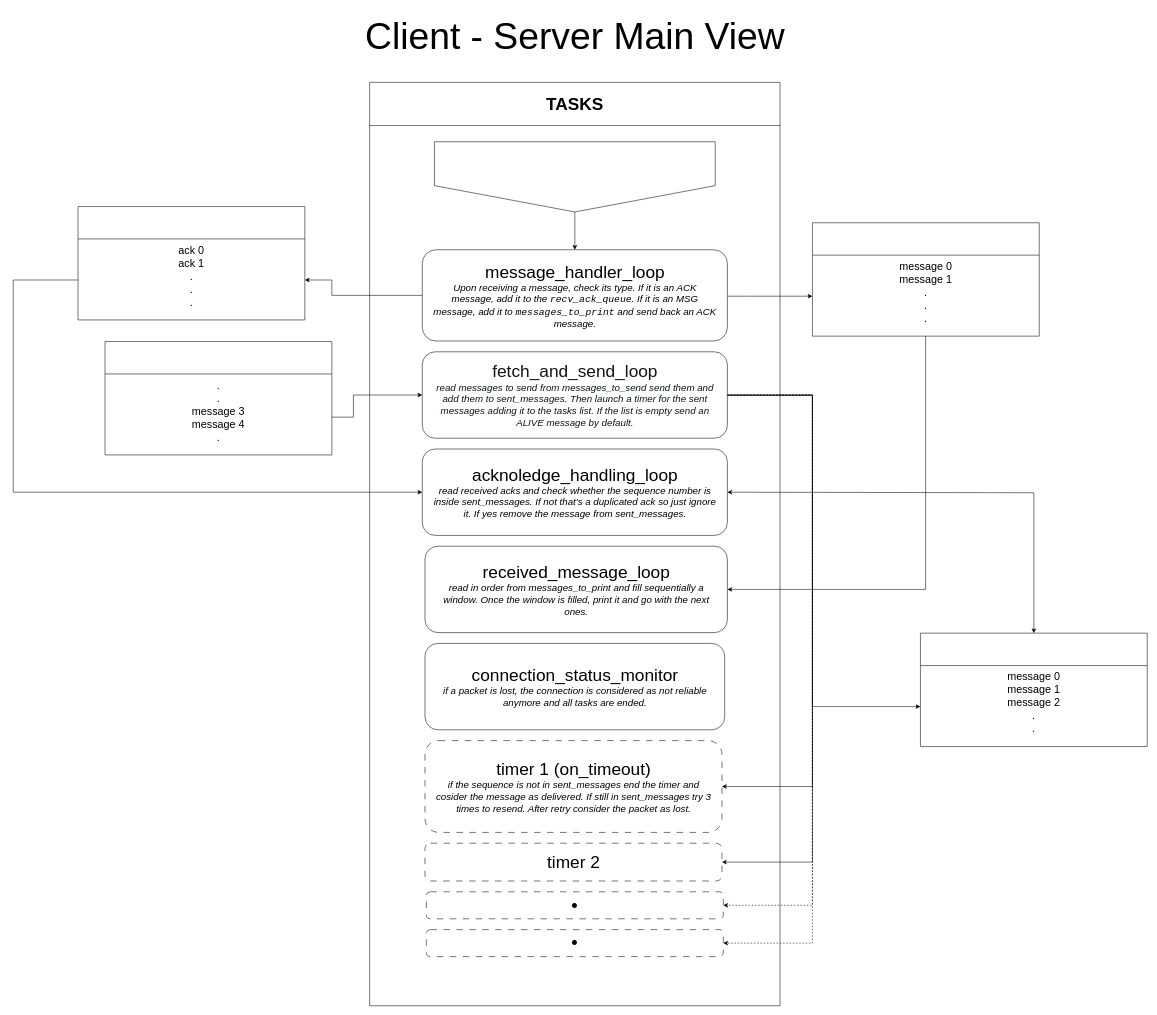
The diagram is 1157 pixels wide and 1015 high, and some of its shapes have lost their labels. Each missing label, with the box of its shape:
messages_to_print: (812, 222, 1039, 336)
messages_to_send: (104, 341, 332, 455)
recv_ack_queue: (77, 206, 305, 320)
sent_messages: (920, 633, 1147, 747)
UDP SOCKET: (434, 141, 715, 212)
